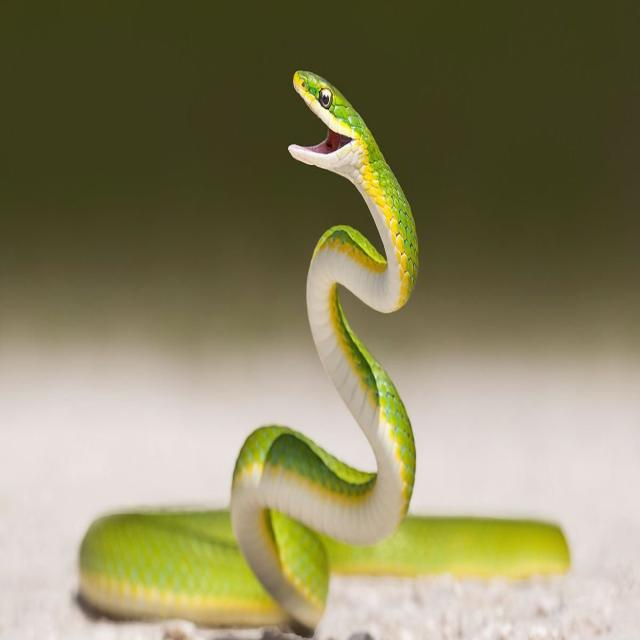Snake: (74, 60, 572, 640)
